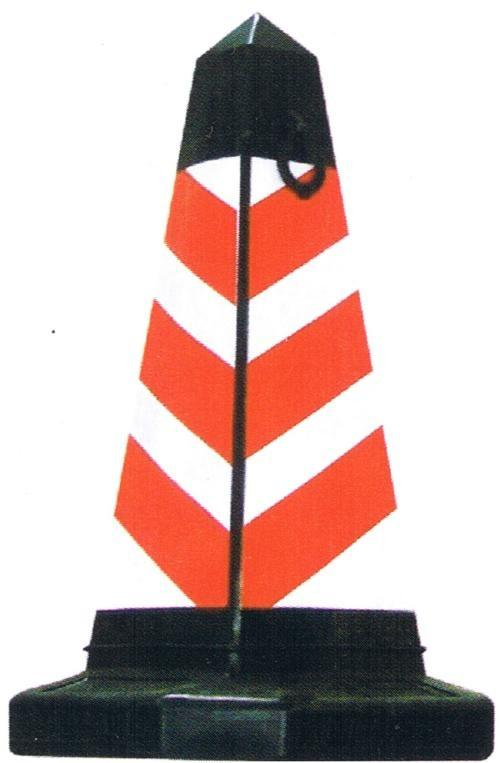cone_barrel: (46, 12, 462, 704)
